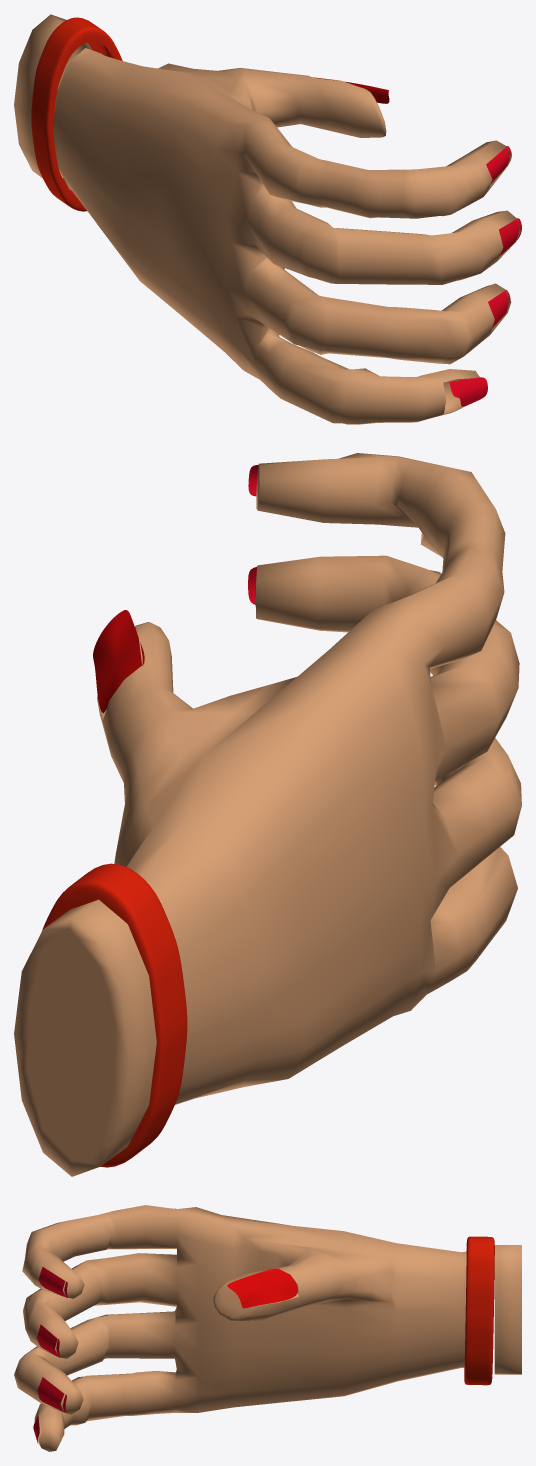
The model's file is hand.fbx.
3 renders of one model, top to bottom at view 1: azimuth 30°, elevation 25°; view 2: azimuth 150°, elevation 25°; view 3: azimuth 270°, elevation 25°, orthographic. The views are drawn at different scales.
Parts seen in each view (by area): view 1: hand, band, nail; view 2: hand, band, nail; view 3: hand, band, nail.
Part boxes in pixels (x1,y1,x2,y2): hand: (14, 14, 520, 424); band: (31, 17, 122, 211); nail: (313, 77, 521, 406); hand: (14, 453, 521, 1176); band: (42, 863, 187, 1167); nail: (93, 465, 258, 712); hand: (14, 1205, 521, 1451); band: (464, 1236, 494, 1385); nail: (33, 1267, 297, 1443).
Bounding box in the file's own units: 206 × 234 × 516.
